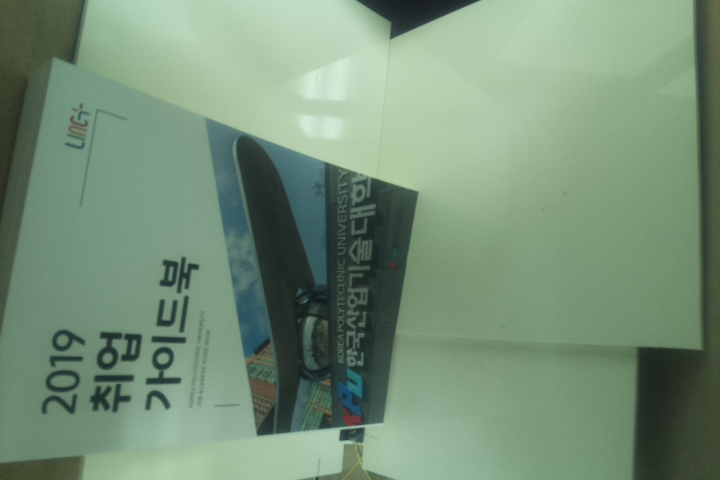book: (1, 55, 422, 467)
